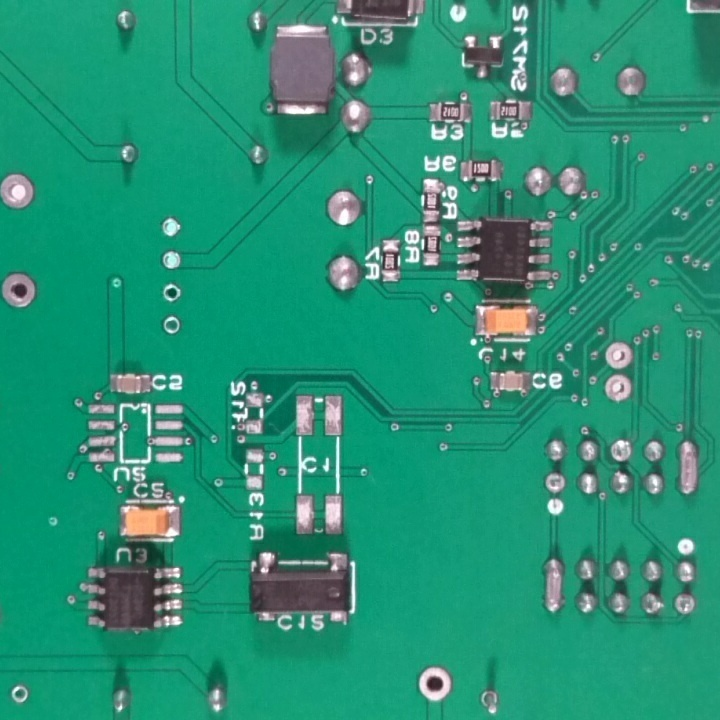F: (1, 270, 38, 312), (416, 666, 456, 704), (1, 170, 37, 212), (671, 590, 701, 619), (478, 684, 504, 717), (607, 437, 636, 466), (605, 373, 633, 403), (606, 343, 636, 369), (543, 470, 569, 496), (6, 682, 33, 705), (159, 215, 182, 238), (160, 315, 182, 336), (160, 252, 184, 271), (161, 283, 182, 303)
P: (537, 553, 567, 616), (676, 435, 699, 499)
